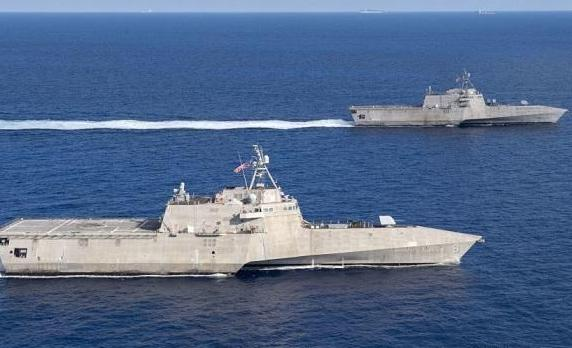warship: (5, 147, 478, 281), (346, 75, 570, 129)
